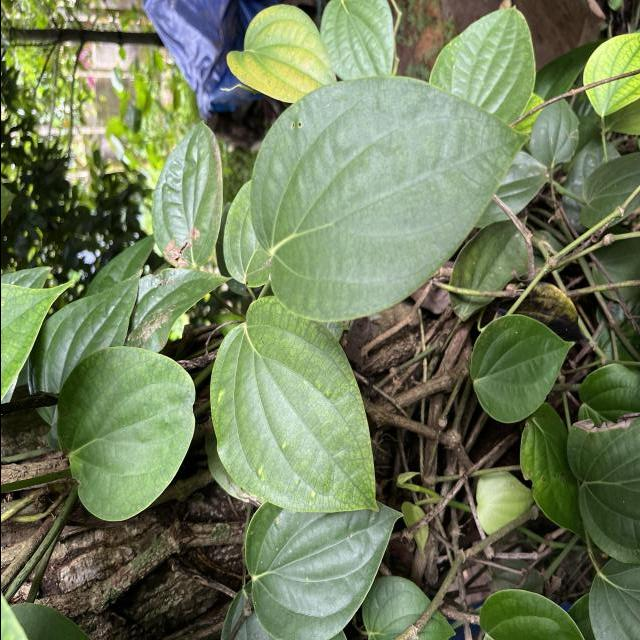Piper nigrum: (247, 74, 533, 326), (207, 293, 380, 516), (54, 344, 196, 524), (243, 498, 403, 640), (468, 312, 575, 424)
